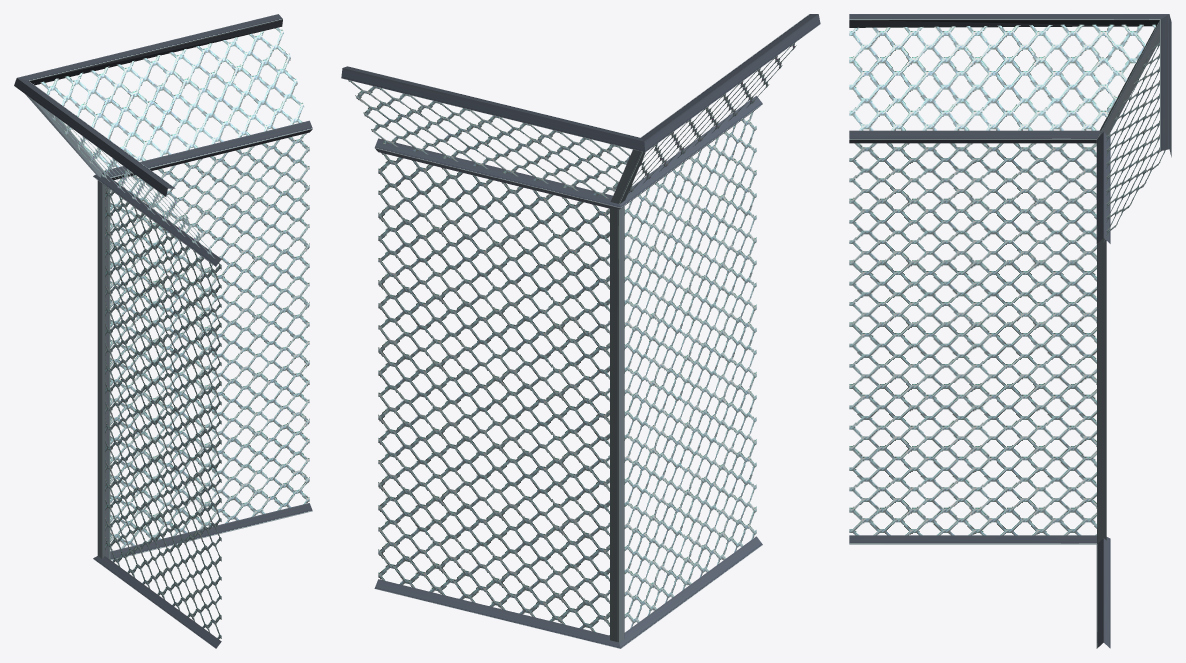
The model's file is a_sewirefence03.glb.
The picture shows the model from 3 angles, left to right: view 1: azimuth 30°, elevation 25°; view 2: azimuth 150°, elevation 25°; view 3: azimuth 270°, elevation 25°; orthographic projection. The views are drawn at different scales.
Visible parts, largest first — view 1: a_sewirefence03; view 2: a_sewirefence03; view 3: a_sewirefence03.
Part boxes in pixels (bbox=[...]): a_sewirefence03: bbox=[14, 14, 312, 648]; a_sewirefence03: bbox=[341, 14, 820, 648]; a_sewirefence03: bbox=[849, 14, 1171, 648].
Bounding box in the file's own units: 1.3 × 2.23 × 1.3.
2 materials, 2 textured.
